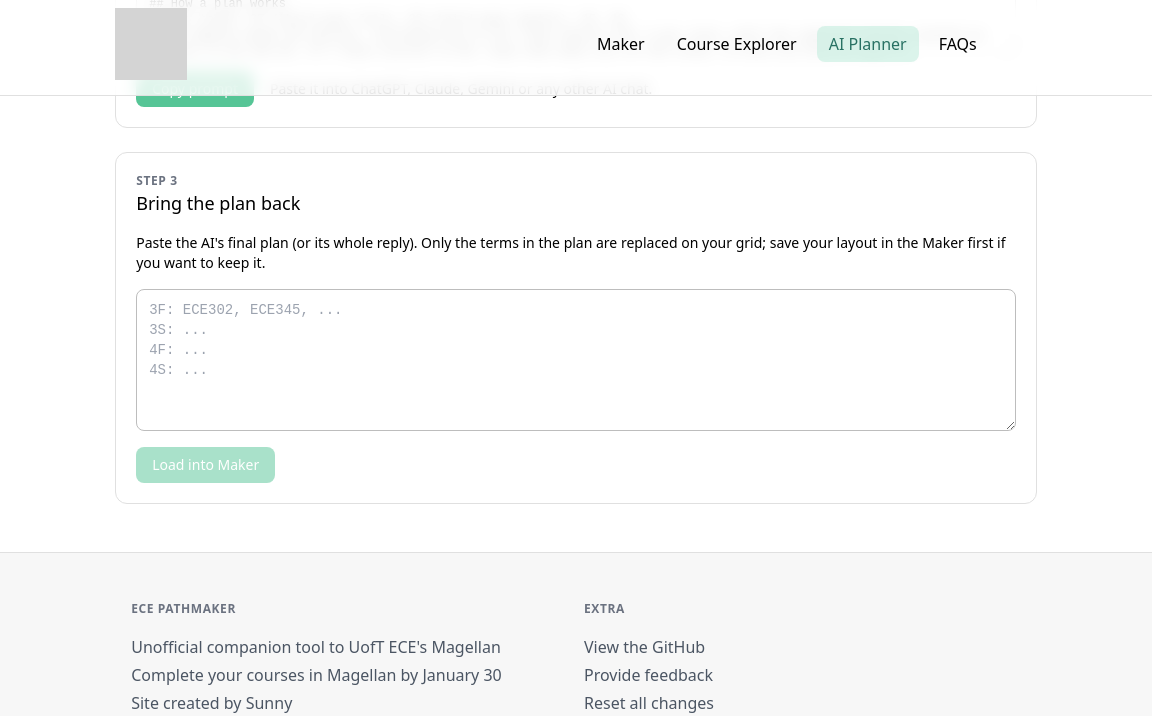
Test case: Planner page › loads a pasted plan onto the grid
(page scrolled)
Type "3F: ECE302, ECE345" into the text box with test id "plan-input" at (576, 360), box [136,289,1016,431]
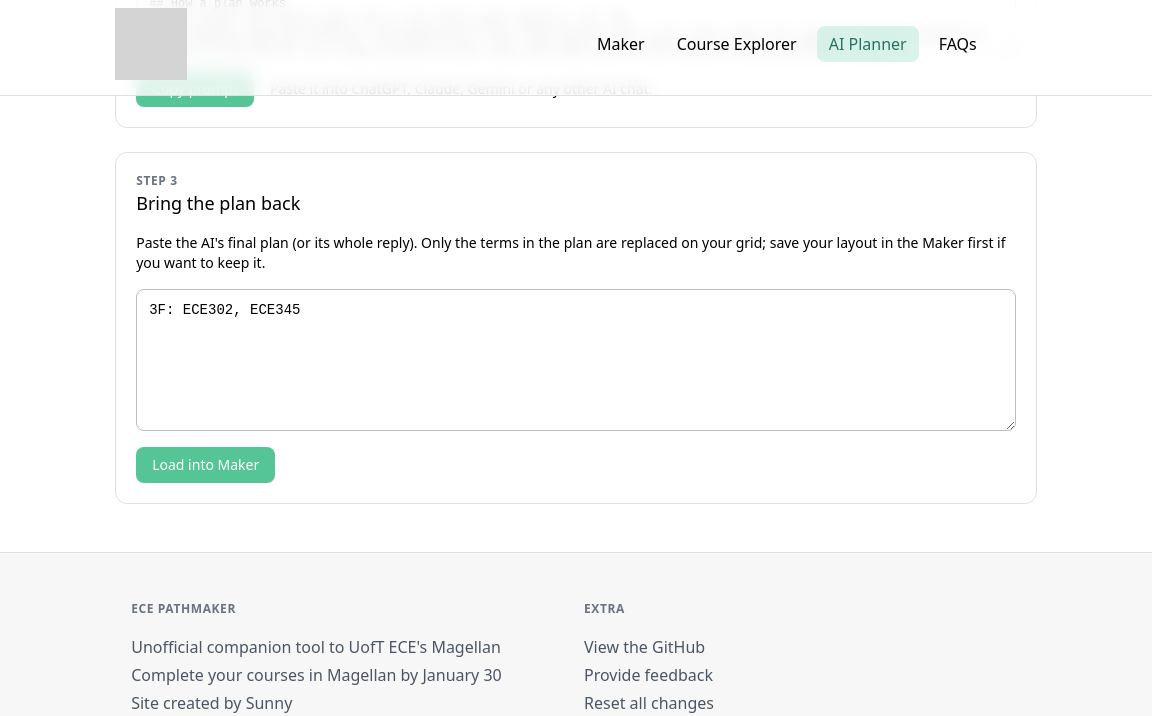
Click the button with test id "load-plan" at (206, 465), box [136,447,275,483]
(page scrolled)
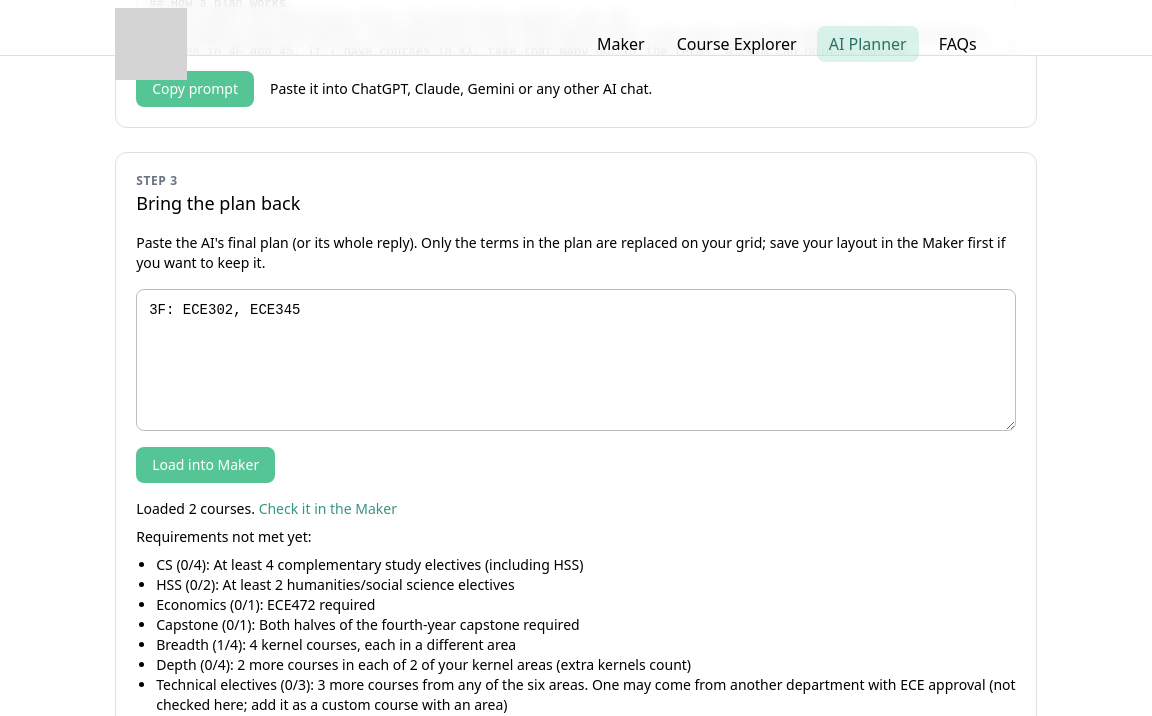
expect the text "Loaded 2 courses. Check it in the Maker" is shown: met, box [136,499,397,518]
